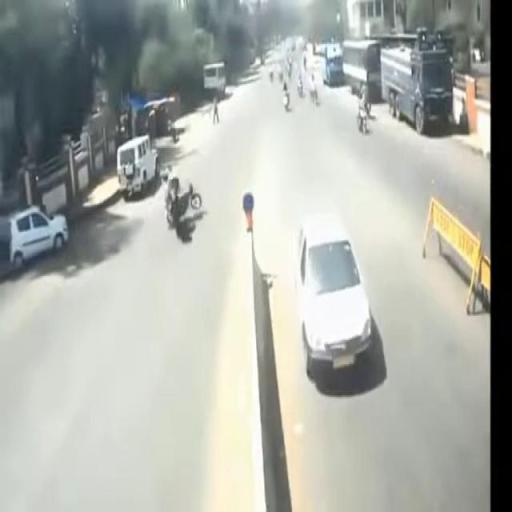小汽车: (295, 216, 373, 374), (379, 48, 460, 133), (8, 208, 66, 265), (118, 134, 160, 192)
自行车撞自行车: (161, 168, 201, 245)
